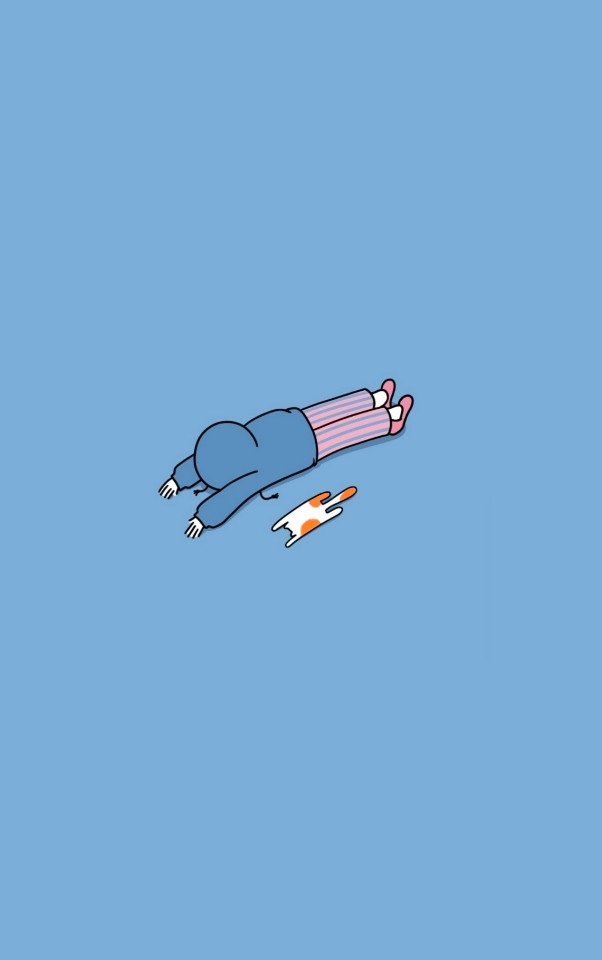person: (150, 359, 427, 583)
